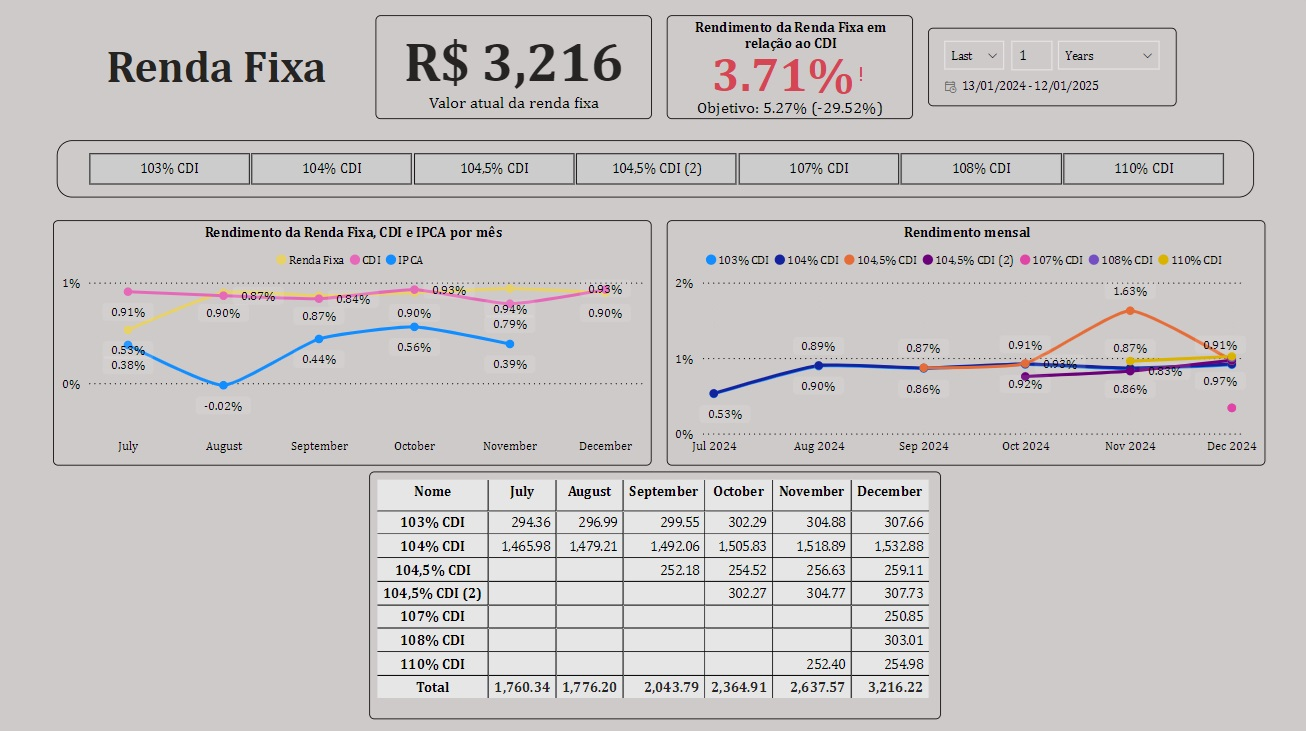

The page's visual inventory and layout, read from the dashboard file:
{"tool":"powerbi","page":{"name":"Renda Fixa","canvas":[1280,720],"ordinal":2},"visuals":[{"type":"textbox","box":[53.8,40.4,319.2,64.8],"z":0},{"type":"slicer","fields":{"Values":["Report_Mensal_Single.Nome"]},"box":[57.5,143.1,1171.5,56.3],"z":1000},{"type":"slicer","fields":{"Values":["Invest_Acao.Tipo"]},"box":[1274.2,698.2,6.1,22],"z":2000},{"type":"slicer","fields":{"Values":["Visao_Geral.Tipo"]},"box":[1274.2,709.2,6.1,11],"z":3000},{"type":"card","fields":{"Values":["Max(Visao_Geral.Valor_Atual)"]},"box":[369.3,20.8,270.2,101.5],"z":4000},{"type":"slicer","fields":{"Values":["IBOV_IPCA.Mês"]},"box":[909.8,33,243.3,77],"z":5000},{"type":"pivotTable","fields":{"Columns":["IBOV_IPCA.Mês.Variation.Date Hierarchy.Year","IBOV_IPCA.Mês.Variation.Date Hierarchy.Month"],"Rows":["Report_Mensal_Single.Nome"],"Values":["Sum(Report_Mensal_Single.Valor_Final)"]},"box":[363.2,467.1,558.8,242.1],"z":6000},{"type":"lineChart","title":"Rendimento da Renda Fixa, CDI e IPCA por mês","fields":{"Category":["IBOV_IPCA.Mês.Variation.Date Hierarchy.Year","IBOV_IPCA.Mês.Variation.Date Hierarchy.Month"],"Y":["Sum(IBOV_IPCA.Rend_Fixa)","Sum(IBOV_IPCA.CDI)","Sum(IBOV_IPCA.IPCA)"]},"box":[53.8,221.3,585.7,239.7],"z":7000},{"type":"kpi","title":"Rendimento da Renda Fixa em relação ao CDI","fields":{"TrendLine":["KPI_Anual.Ano"],"Indicator":["Sum(KPI_Anual.Rend_Fixa)"],"Goal":["Sum(KPI_Anual.CDI_Acu)"]},"box":[654.2,20.8,240.9,101.5],"z":8000},{"type":"lineChart","title":"Rendimento mensal","fields":{"Category":["IBOV_IPCA.Mês.Variation.Date Hierarchy.Year","IBOV_IPCA.Mês.Variation.Date Hierarchy.Month"],"Y":["Sum(Report_Mensal_Single.%Rend)"],"Series":["Report_Mensal_Single.Nome"]},"box":[654.2,221.3,585.7,239.7],"z":9000}]}

Visuals, with their boxes in screenshot pixels (x1, y1, x2, y2), scaled from the page's 1280x720 canvas onto the 1306x731 screenshot:
textbox: <region>55, 41, 381, 107</region>
slicer - Report_Mensal_Single.Nome: <region>59, 145, 1254, 202</region>
slicer - Invest_Acao.Tipo: <region>1300, 709, 1305, 730</region>
slicer - Visao_Geral.Tipo: <region>1300, 720, 1305, 730</region>
card - Max(Visao_Geral.Valor_Atual): <region>377, 21, 652, 124</region>
slicer - IBOV_IPCA.Mês: <region>928, 34, 1177, 112</region>
pivotTable - IBOV_IPCA.Mês.Variation.Date Hierarchy.Year x IBOV_IPCA.Mês.Variation.Date Hierarchy.Month: <region>371, 474, 941, 720</region>
"Rendimento da Renda Fixa, CDI e IPCA por mês" lineChart: <region>55, 225, 652, 468</region>
"Rendimento da Renda Fixa em relação ao CDI" kpi: <region>667, 21, 913, 124</region>
"Rendimento mensal" lineChart: <region>667, 225, 1265, 468</region>
